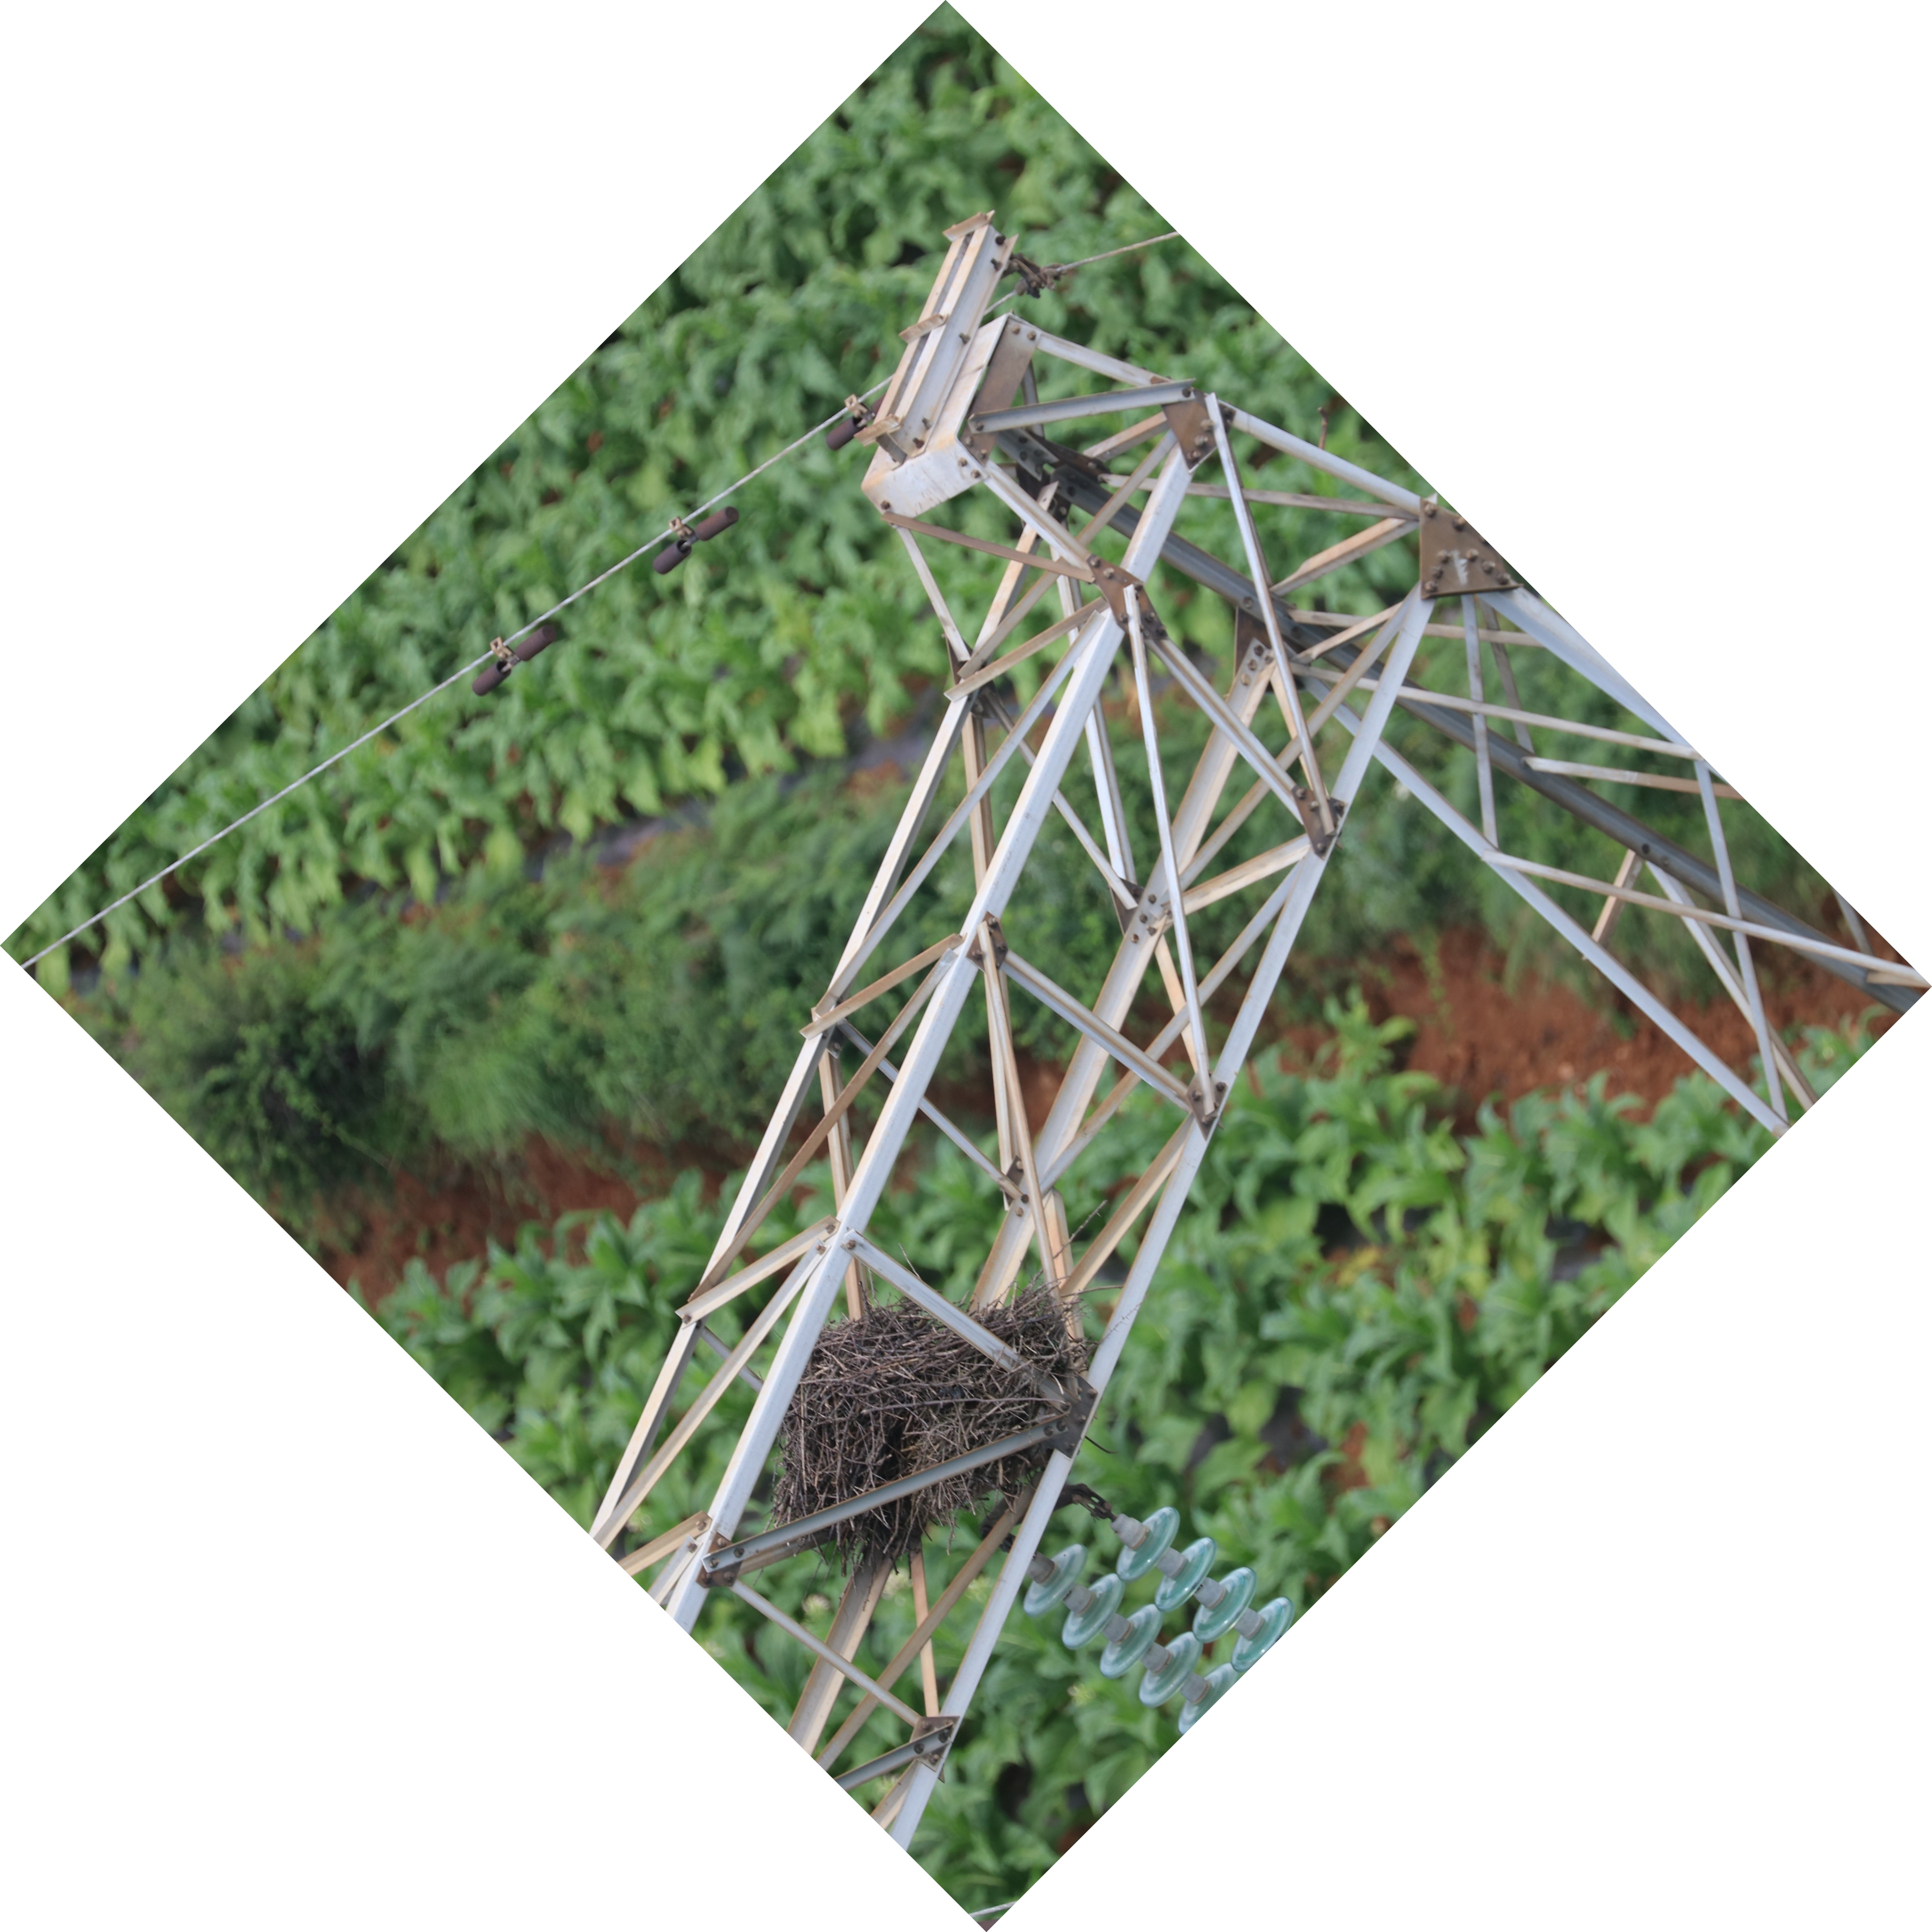niaowo: (740, 1261, 1125, 1587)
